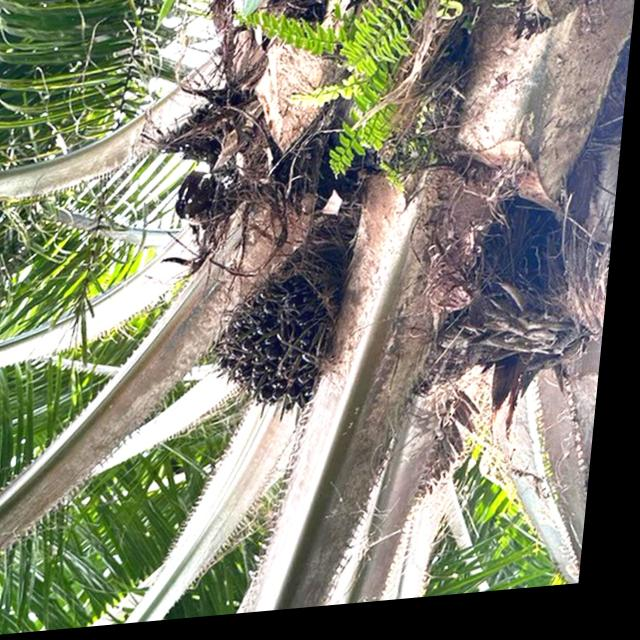almost: (204, 264, 351, 439)
